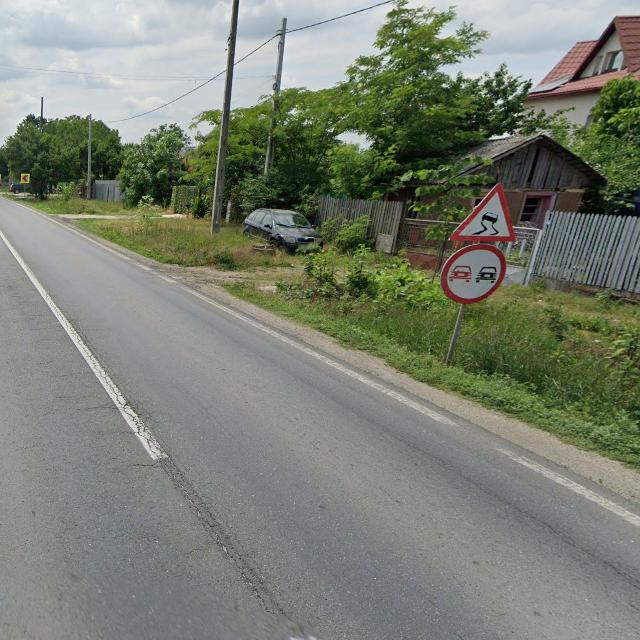forb_overtake: (440, 244, 507, 305)
warn_slippery_road: (449, 181, 516, 243)
